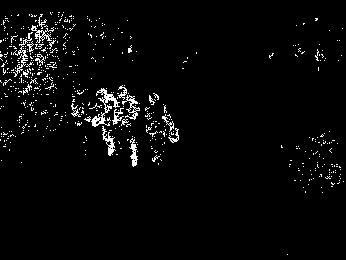person: (143, 90, 179, 169), (113, 81, 139, 169), (94, 87, 114, 160)
